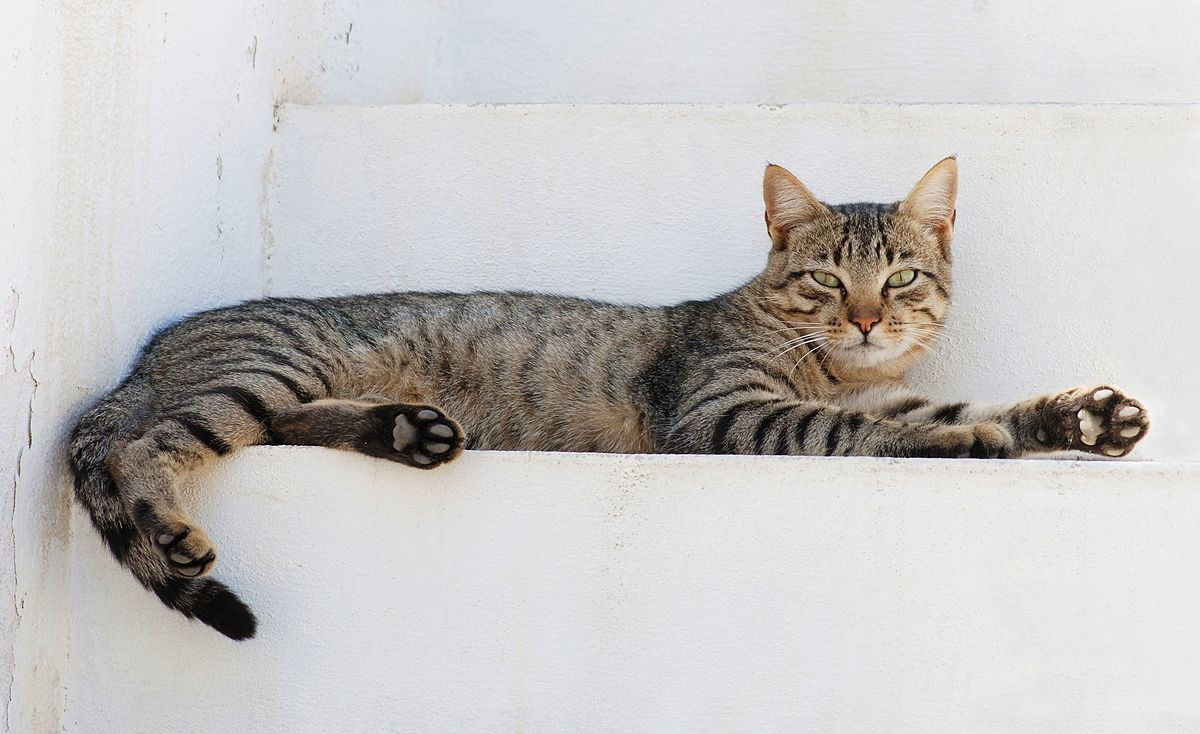cat: (64, 155, 1152, 642)
